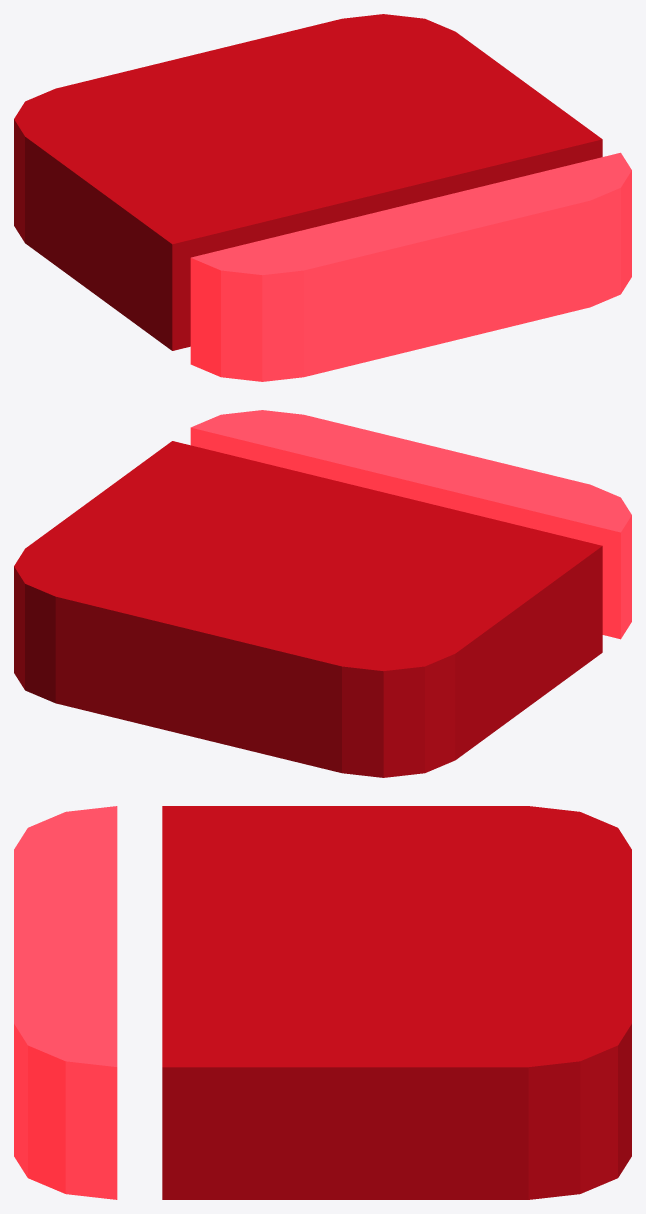
File: red_anubis.gltf
The picture shows the model from 3 angles, top to bottom: view 1: azimuth 30°, elevation 25°; view 2: azimuth 150°, elevation 25°; view 3: azimuth 270°, elevation 25°; orthographic projection. The views are drawn at different scales.
Parts seen in each view (by area): view 1: icon_anubis_red; view 2: icon_anubis_red; view 3: icon_anubis_red.
Part boxes in pixels (x1,y1,x2,y2): icon_anubis_red: [14, 14, 631, 381]; icon_anubis_red: [14, 410, 631, 777]; icon_anubis_red: [14, 806, 631, 1199].
Size of the model in its own units: 1.42 by 0.3378 by 1.42.
Materials: 2 (2 with a texture image).
